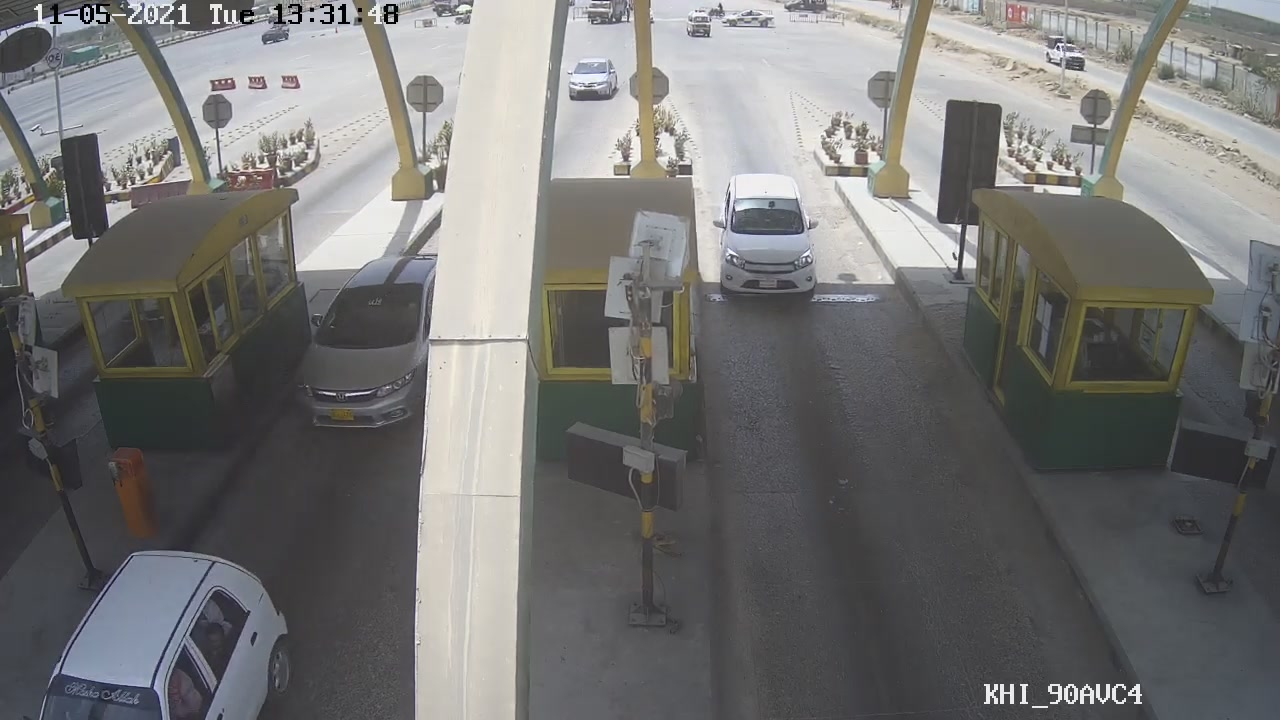F1: (710, 168, 824, 303)
